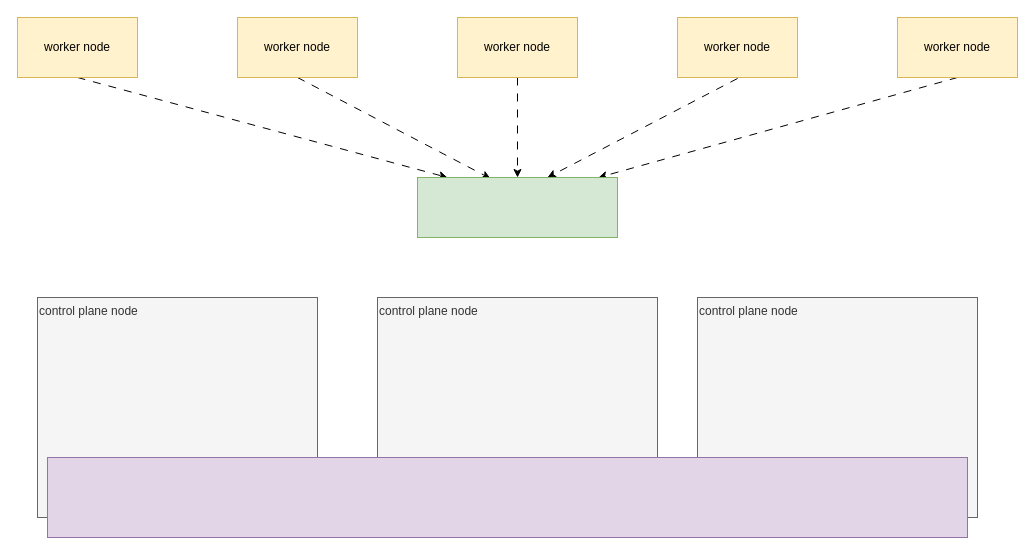
Some shapes in this 1035 by 555 pixel diagram are drawn without their labels. Here are the shapes that lost their labels. From the top down, the centre of each, then its label:
the point at 517,207: load balancer
the point at 507,497: stacker etcd cluster
